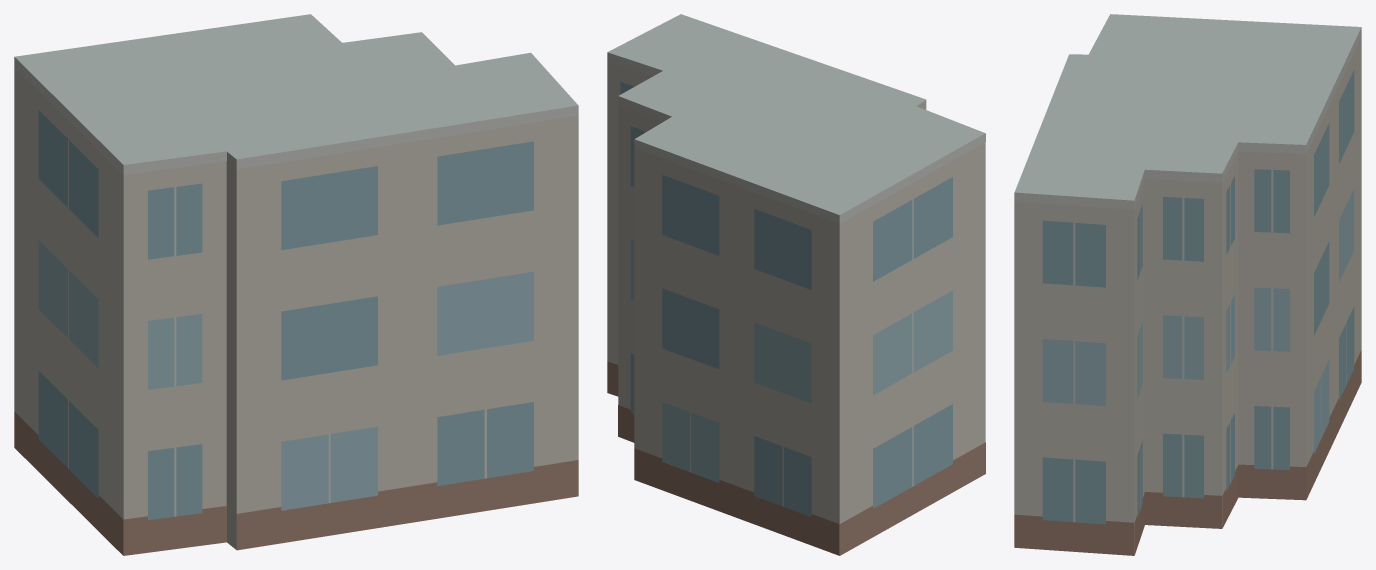
File: survey-upis-32512385.glb
3 renders of one model, left to right at view 1: azimuth 30°, elevation 25°; view 2: azimuth 150°, elevation 25°; view 3: azimuth 270°, elevation 25°, orthographic. The views are drawn at different scales.
Parts seen in each view (by area): view 1: survey-upis-32512385.tmp; view 2: survey-upis-32512385.tmp; view 3: survey-upis-32512385.tmp.
Boxes of the visible parts, <box> form: survey-upis-32512385.tmp: <box>14,14,578,555</box>; survey-upis-32512385.tmp: <box>607,14,985,555</box>; survey-upis-32512385.tmp: <box>1014,14,1361,555</box>.
Bounding box in the file's own units: 10.71 × 9.5 × 8.43.
